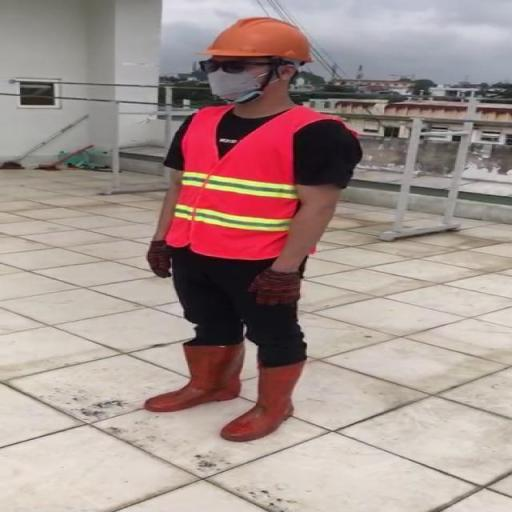Boots: (216, 359, 304, 444), (144, 342, 248, 411)
Helmet: (203, 16, 317, 64)
Person: (132, 11, 364, 442)
